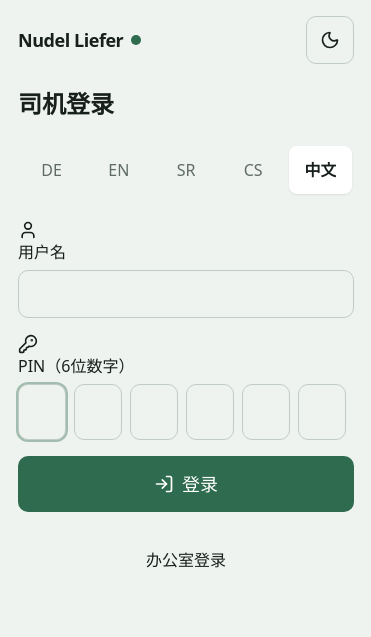
Test: driver login › renders the zh-Hans error text and the zh-Hans form in the right locale
Expected: the heading with test id "login-title" reads "司机登录", [18, 87, 114, 120]
In the password field named "pin": (182, 412) [18, 384, 346, 440], type "12"
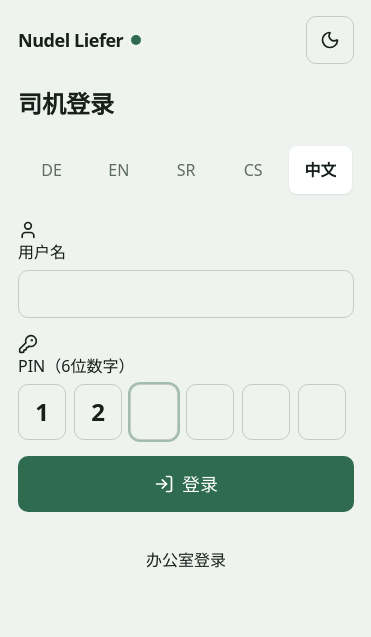
Submit the form with test id "driver-login-form", box [18, 220, 354, 512]
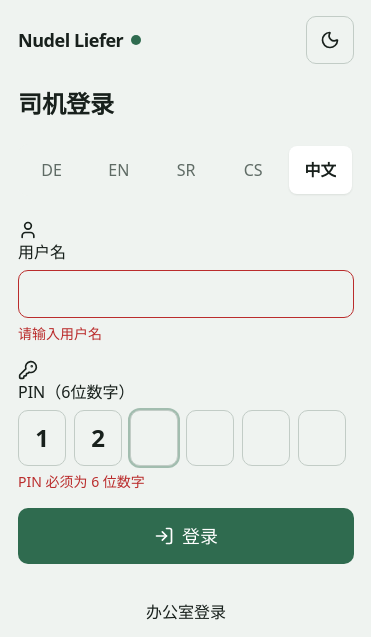
Result: the text "PIN 必须为 6 位数字" is shown at [18, 472, 145, 491]
